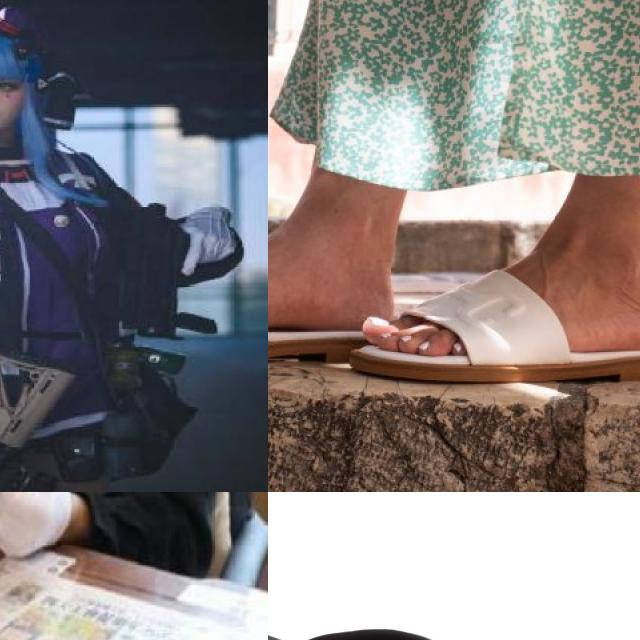No_Glasses: (0, 76, 19, 97)
Sandals: (349, 207, 640, 384), (268, 202, 369, 371)
face_nomask: (0, 58, 17, 149)
hand_glove: (173, 200, 244, 284), (0, 492, 63, 562)
head_nohelmet: (0, 12, 42, 92)
person: (0, 0, 199, 492), (0, 492, 246, 593)
